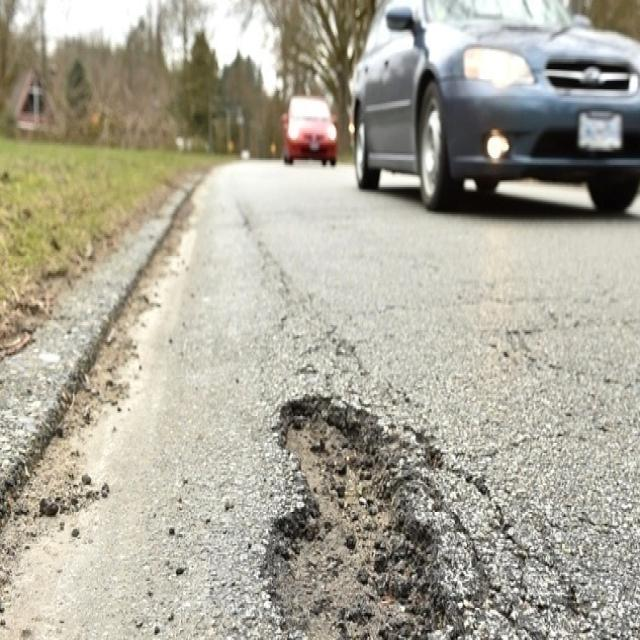road-pothole: (266, 392, 475, 638)
